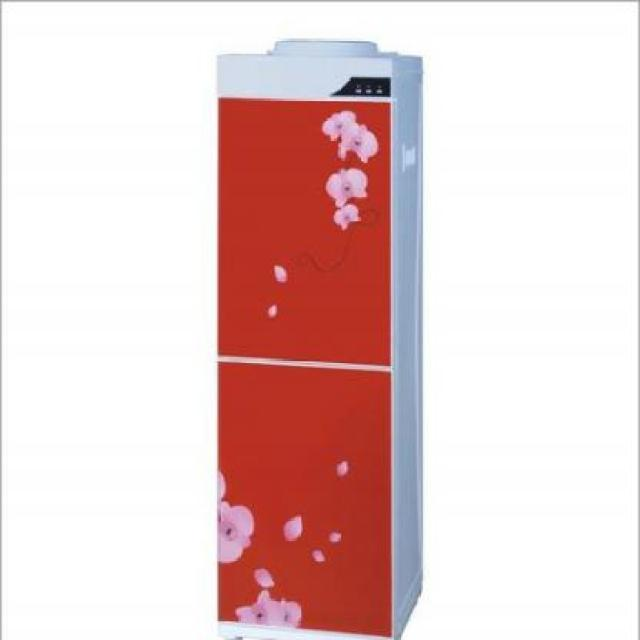cooler: (211, 29, 431, 640)
